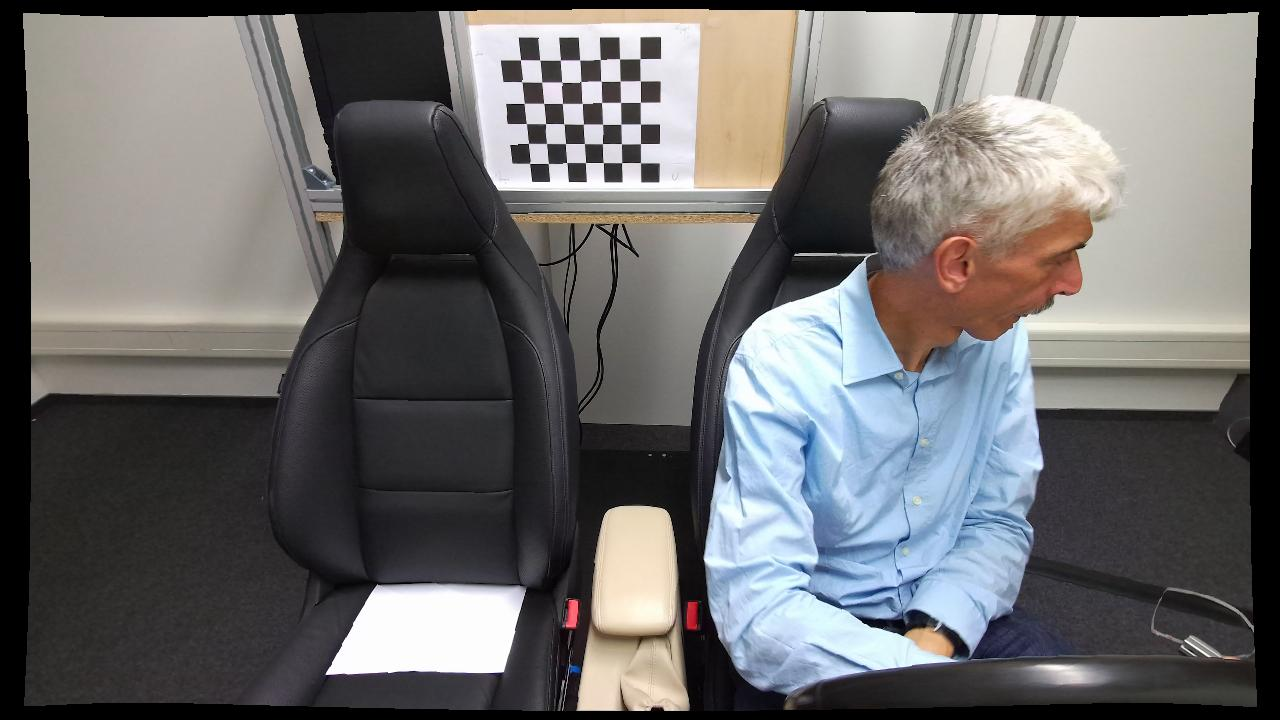Distracted: (695, 90, 1145, 709)
